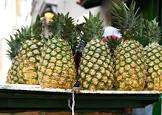Pineapple: (111, 1, 148, 92), (38, 21, 78, 90), (80, 15, 114, 89), (21, 23, 47, 86), (140, 16, 162, 90)
